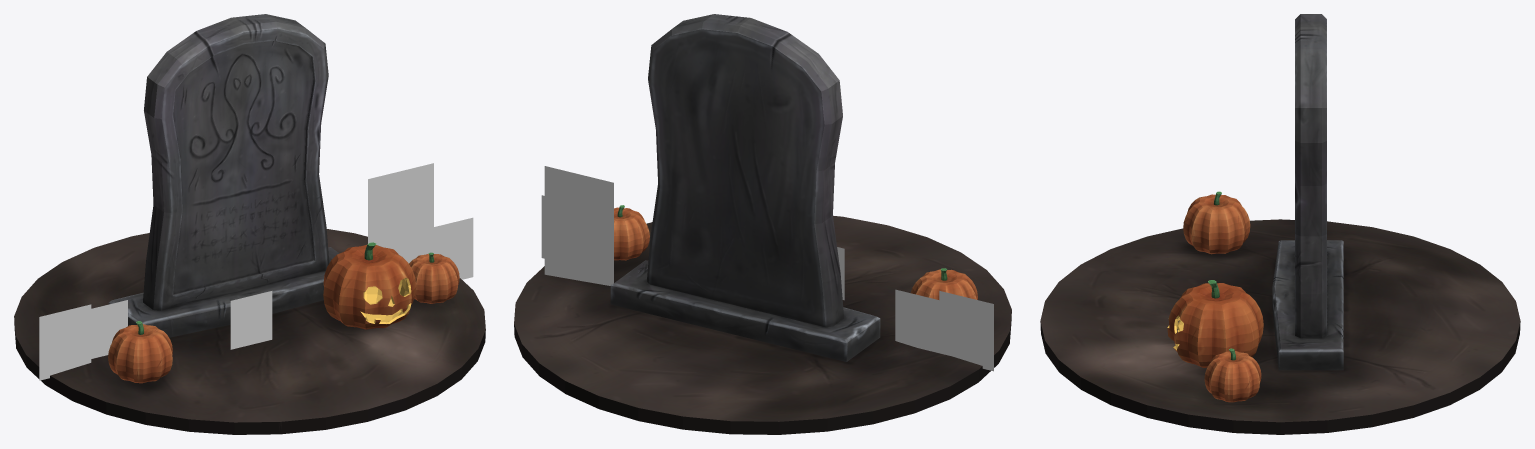
The model's file is projekt.fbx.
3 views of the same model, side by side, from view 1: azimuth 30°, elevation 25°; view 2: azimuth 150°, elevation 25°; view 3: azimuth 270°, elevation 25° (orthographic). The views are drawn at different scales.
Visible parts, largest first — view 1: grave, grass, dyniagłowa, Plane.004, Plane, dynia2.000, Plane.002, Plane.003, dynia2.004, Plane.001; view 2: grave, grass, Plane.004, Plane.001, Plane, dynia2.004, dynia2.000; view 3: grass, grave, dyniagłowa, dynia2.000, dynia2.004.
Part boxes in pixels (x1=…): grave: x1=108, y1=14, x2=339, y2=337; grass: x1=14, y1=229, x2=485, y2=434; dyniagłowa: x1=323, y1=242, x2=416, y2=329; Plane.004: x1=368, y1=163, x2=433, y2=263; Plane: x1=39, y1=304, x2=91, y2=380; dynia2.000: x1=108, y1=321, x2=172, y2=383; Plane.002: x1=230, y1=291, x2=272, y2=349; Plane.003: x1=424, y1=217, x2=473, y2=279; dynia2.004: x1=409, y1=252, x2=459, y2=303; Plane.001: x1=91, y1=300, x2=127, y2=358; grave: x1=610, y1=14, x2=880, y2=361; grass: x1=514, y1=215, x2=1011, y2=434; Plane.004: x1=544, y1=166, x2=613, y2=285; Plane.001: x1=895, y1=289, x2=950, y2=355; Plane: x1=939, y1=291, x2=993, y2=371; dynia2.004: x1=614, y1=205, x2=649, y2=260; dynia2.000: x1=910, y1=268, x2=977, y2=299; grass: x1=1040, y1=219, x2=1520, y2=434; grave: x1=1272, y1=14, x2=1343, y2=370; dyniagłowa: x1=1167, y1=280, x2=1263, y2=367; dynia2.000: x1=1183, y1=191, x2=1250, y2=254; dynia2.004: x1=1204, y1=348, x2=1261, y2=402.
Size of the model in its own units: 877 by 588 by 833.
